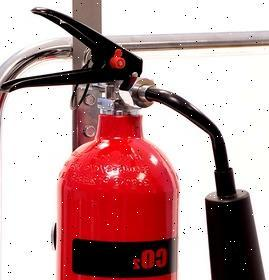Fire Extinguisher: (0, 1, 269, 276)
